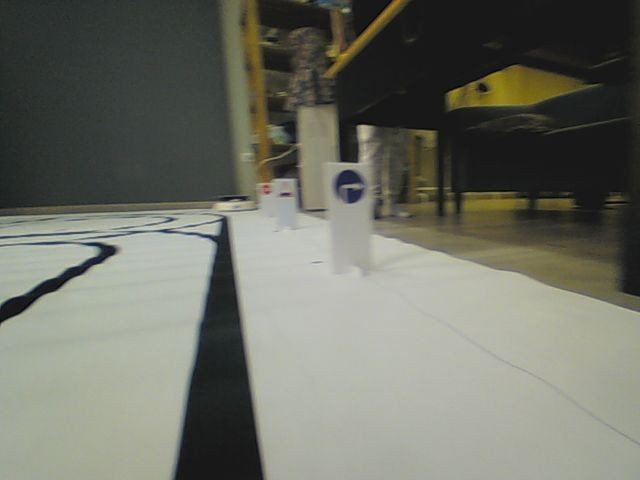Right: (331, 168, 365, 204)
